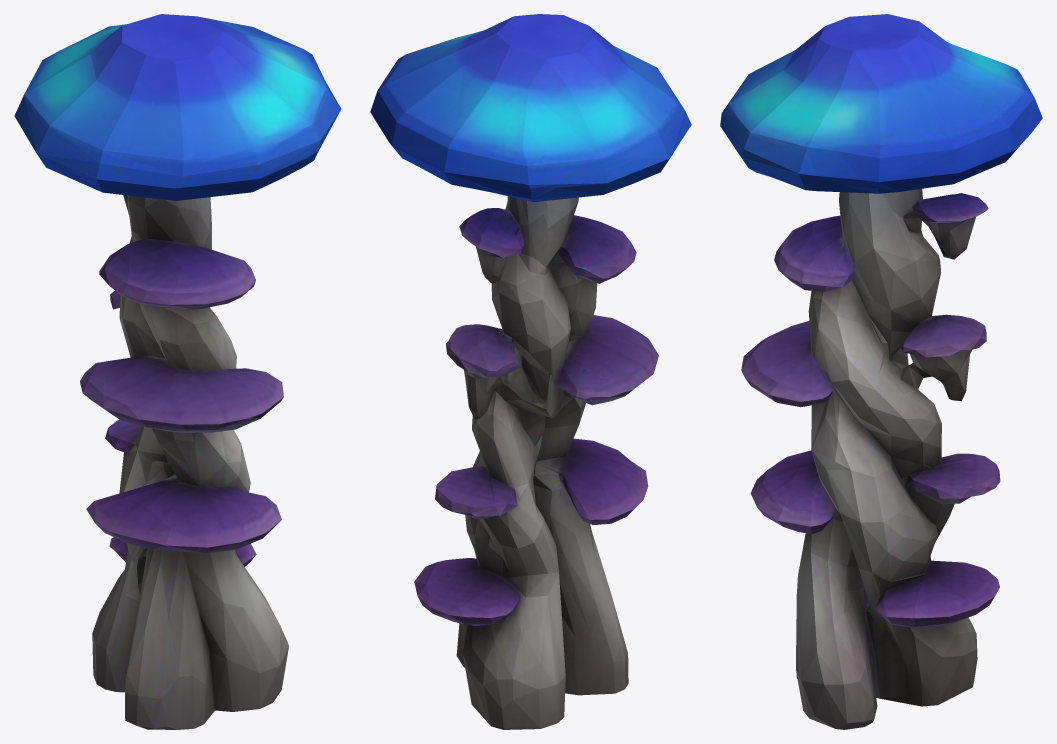
File: d_mycelium_pilier.glb
The picture shows the model from 3 angles, left to right: view 1: azimuth 30°, elevation 25°; view 2: azimuth 150°, elevation 25°; view 3: azimuth 270°, elevation 25°; orthographic projection.
Visible parts, largest first — view 1: geometry_0; view 2: geometry_0; view 3: geometry_0.
Boxes of the visible parts, box(x1,y1,x2,y2) form: geometry_0: box(14, 14, 341, 729); geometry_0: box(370, 14, 691, 729); geometry_0: box(720, 14, 1042, 729).
Size of the model in its own units: 0.4466 by 1 by 0.4467.
Materials: 1 (1 with a texture image).
